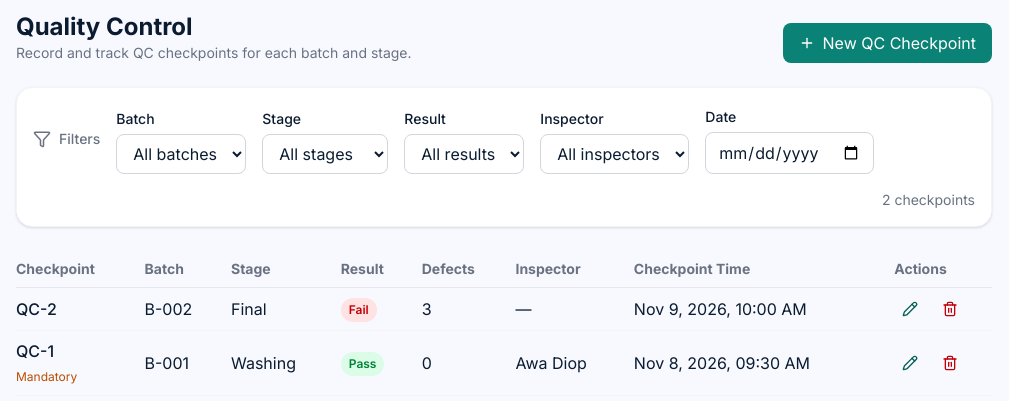
it: QcCheckpointList › filters by stage
Expected: the text "QC-1" is shown, top-left (16, 341), bottom-right (54, 361)
Select "Final" in the dropdown named "Filter by stage": {"x": 325, "y": 154} top-left (262, 134), bottom-right (388, 174)
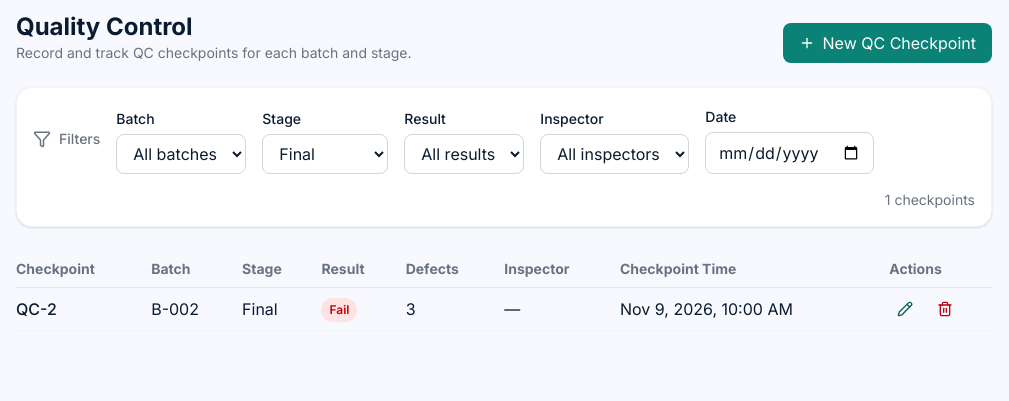
Expected: the text "QC-2" is shown, top-left (16, 299), bottom-right (57, 319)
Now the text "QC-1" is gone
Now the text "1 checkpoints" is shown, box top-left (885, 190), bottom-right (975, 210)
